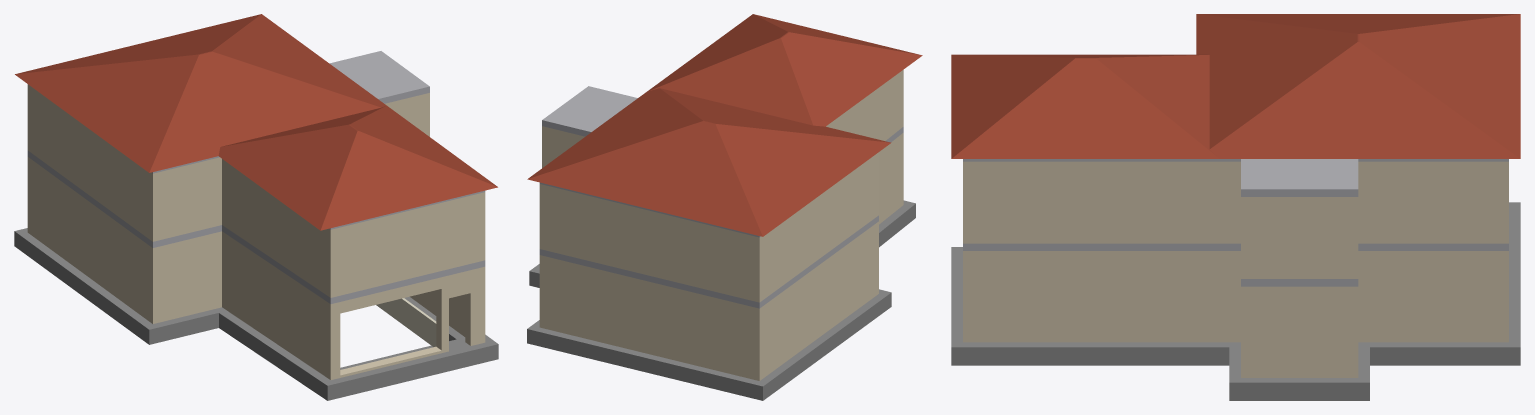
The model's file is casa_v2.glb.
The picture shows the model from 3 angles, left to right: view 1: azimuth 30°, elevation 25°; view 2: azimuth 150°, elevation 25°; view 3: azimuth 270°, elevation 25°; orthographic projection. The views are drawn at different scales.
Visible parts, largest first — view 1: cubierta, muros_PA, muros_PB, cimentacion, forjado_cubierta, forjado_PB_PA, murete_pasillo; view 2: cubierta, muros_PB, muros_PA, cimentacion, forjado_cubierta, forjado_PB_PA; view 3: cubierta, muros_PB, muros_PA, cimentacion, forjado_cubierta, forjado_PB_PA.
Boxes of the visible parts, <box> form: cubierta: <box>15,14,497,230</box>; muros_PA: <box>27,84,485,297</box>; muros_PB: <box>27,157,485,379</box>; cimentacion: <box>14,228,498,400</box>; forjado_cubierta: <box>151,51,485,229</box>; forjado_PB_PA: <box>27,150,485,303</box>; murete_pasillo: <box>376,298,436,346</box>; cubierta: <box>527,14,922,236</box>; muros_PB: <box>539,133,903,380</box>; muros_PA: <box>539,70,903,302</box>; cimentacion: <box>527,200,915,400</box>; forjado_cubierta: <box>539,86,760,237</box>; forjado_PB_PA: <box>539,127,903,308</box>; cubierta: <box>951,14,1520,158</box>; muros_PB: <box>963,251,1508,377</box>; muros_PA: <box>963,161,1508,278</box>; cimentacion: <box>951,202,1520,400</box>; forjado_cubierta: <box>963,159,1508,196</box>; forjado_PB_PA: <box>963,243,1508,286</box>.
Bounding box in the file's own units: 12.75 × 8.41 × 17.
